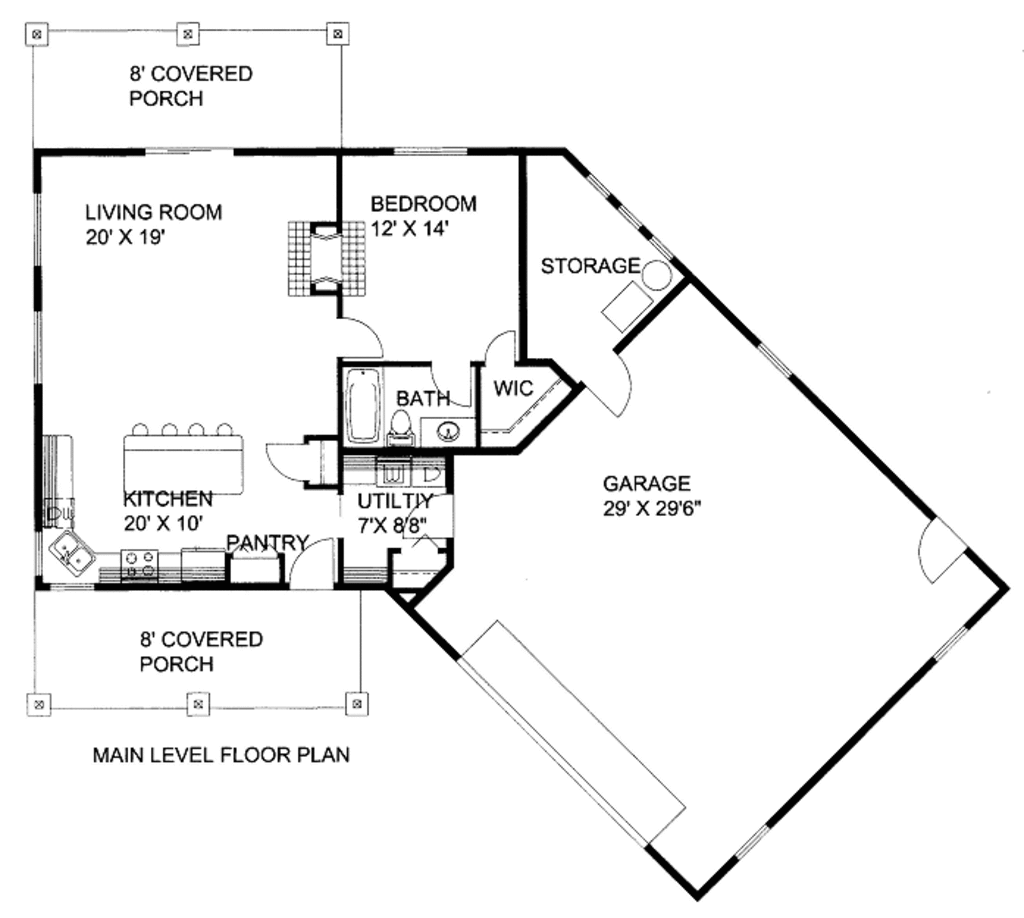door: (572, 335, 647, 431), (254, 441, 343, 495), (906, 515, 970, 588), (377, 493, 463, 544), (286, 541, 349, 593), (329, 310, 394, 358), (427, 355, 476, 404), (482, 326, 523, 370)
kitchen_bar: (116, 416, 246, 510)
large_sink: (372, 400, 420, 451)
small_sink: (422, 417, 482, 454)
tub: (343, 357, 383, 450)
twin_sink: (47, 531, 102, 583)
window: (754, 328, 799, 391), (386, 141, 480, 167), (139, 137, 237, 160), (29, 304, 47, 391), (32, 184, 47, 271)
